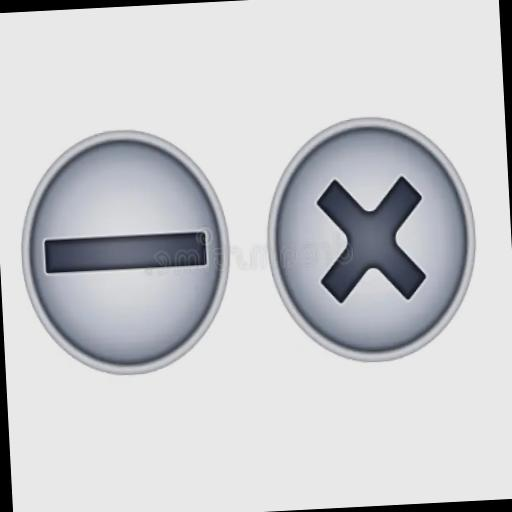Phillips: (261, 112, 482, 371)
Slotted: (18, 120, 236, 376)
